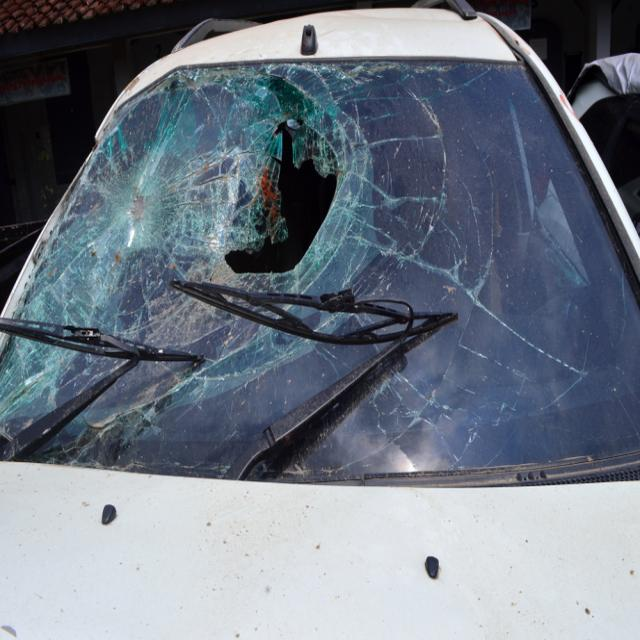glass shatter: (0, 60, 640, 480)
